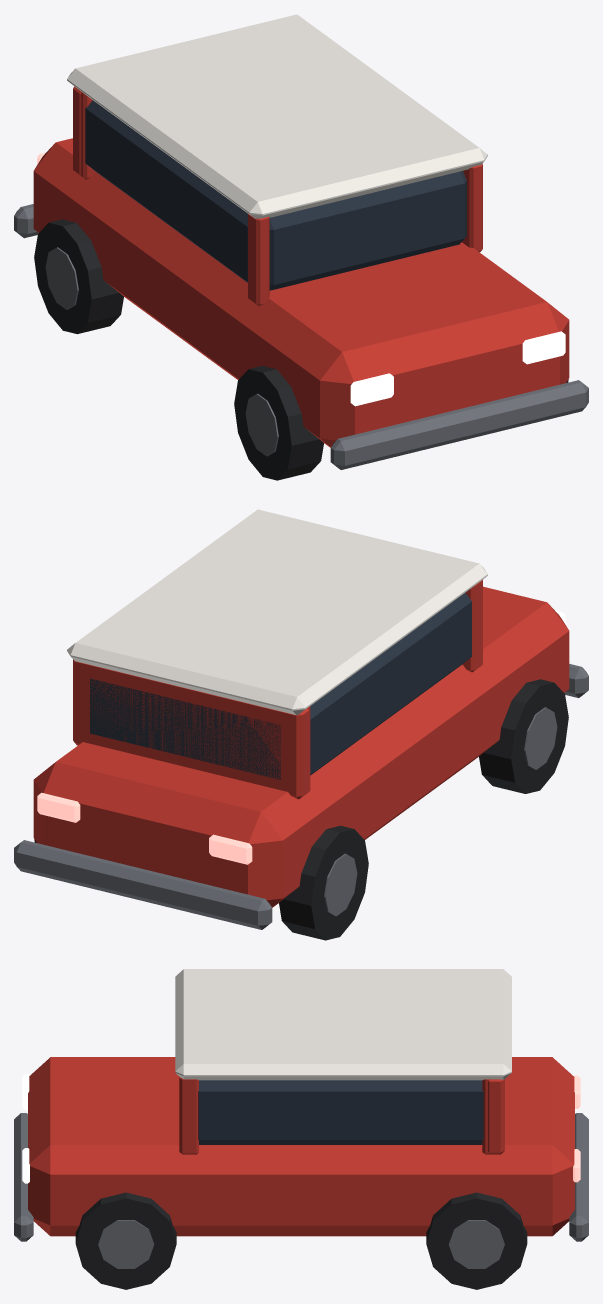
The model's file is carro_vermelho.glb.
3 renders of one model, top to bottom at view 1: azimuth 30°, elevation 25°; view 2: azimuth 150°, elevation 25°; view 3: azimuth 270°, elevation 25°, orthographic. The views are drawn at different scales.
Parts seen in each view (by area): view 1: carro_vermelho_00, carro_vermelho_02, carro_vermelho_01, carro_vermelho_03, carro_vermelho_06, carro_vermelho_04; view 2: carro_vermelho_00, carro_vermelho_02, carro_vermelho_01, carro_vermelho_03, carro_vermelho_06, carro_vermelho_05; view 3: carro_vermelho_00, carro_vermelho_02, carro_vermelho_01, carro_vermelho_06, carro_vermelho_03, carro_vermelho_04, carro_vermelho_05.
Part boxes in pixels (<box>): carro_vermelho_00: <box>33,86,569,447</box>; carro_vermelho_02: <box>67,14,487,218</box>; carro_vermelho_01: <box>85,100,466,290</box>; carro_vermelho_03: <box>14,204,588,469</box>; carro_vermelho_06: <box>34,219,568,480</box>; carro_vermelho_04: <box>350,331,565,406</box>; carro_vermelho_00: <box>33,580,569,907</box>; carro_vermelho_02: <box>67,509,487,715</box>; carro_vermelho_01: <box>90,593,471,779</box>; carro_vermelho_03: <box>14,664,588,929</box>; carro_vermelho_06: <box>34,679,568,940</box>; carro_vermelho_05: <box>37,792,252,864</box>; carro_vermelho_00: <box>28,1057,574,1236</box>; carro_vermelho_02: <box>175,969,511,1080</box>; carro_vermelho_01: <box>198,1080,483,1144</box>; carro_vermelho_06: <box>75,1192,527,1289</box>; carro_vermelho_03: <box>14,1113,588,1268</box>; carro_vermelho_04: <box>22,1074,29,1183</box>; carro_vermelho_05: <box>573,1075,580,1182</box>.
Bounding box in the file's own units: 2.02 × 1.68 × 4.1.
